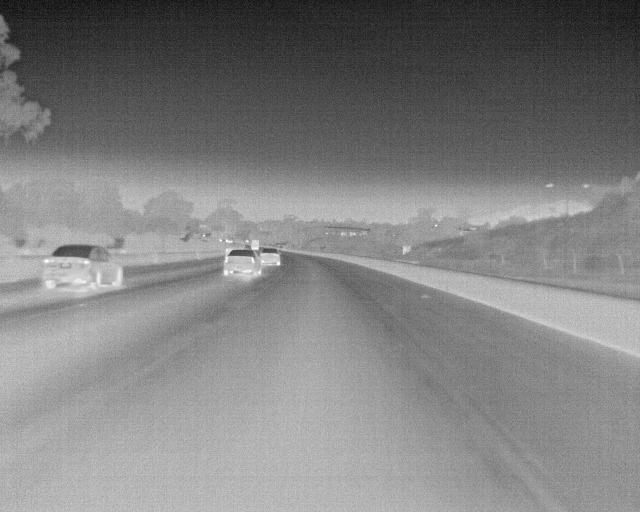car: (38, 241, 121, 293), (221, 246, 259, 278), (254, 245, 281, 267), (248, 237, 262, 254)
